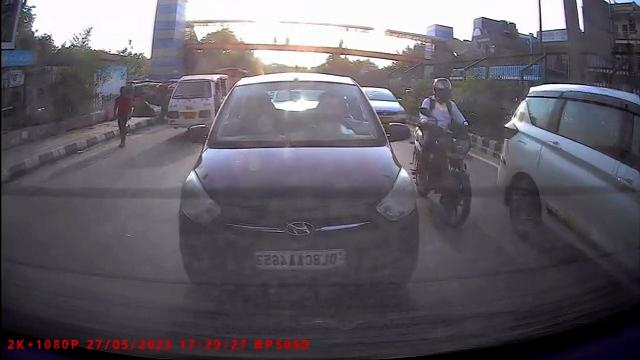motorcycle_with_helmet: (410, 75, 475, 229)
